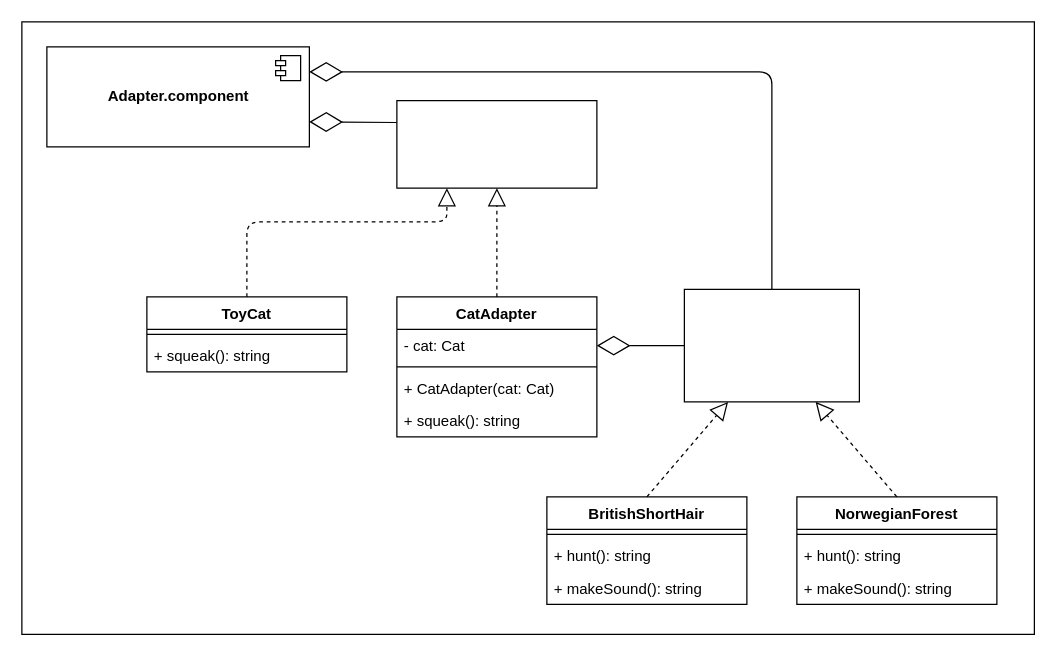
The diagram is 1056 pixels wide and 656 high, and some of its shapes have lost their labels. The shapes that lost their labels are listed below. From the top down, each one's centre as x and y in pixels, then its label:
At point (496, 143): "<<Interface>> Toy + squeak(): string".
At point (771, 345): "<<Interface>> Cat + hunt(): string + makeSound(): string".
